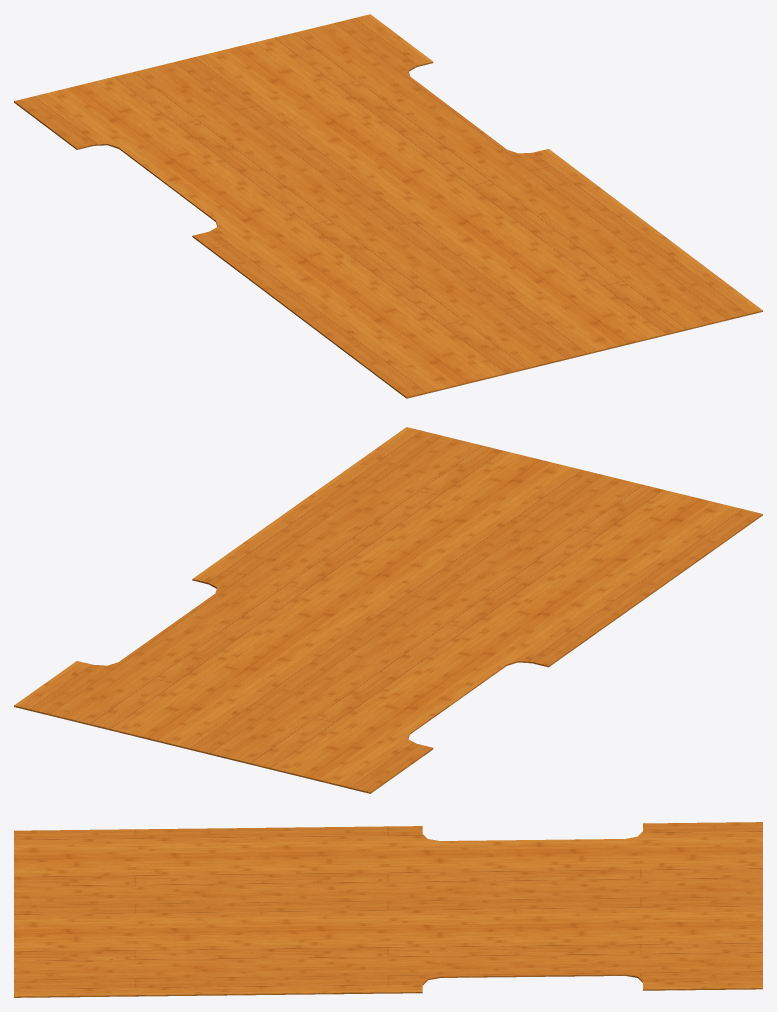
File: flooring-four.glb
3 views of the same model, one above another, from view 1: azimuth 30°, elevation 25°; view 2: azimuth 150°, elevation 25°; view 3: azimuth 270°, elevation 25° (orthographic). The views are drawn at different scales.
Parts seen in each view (by area): view 1: Van_body.002; view 2: Van_body.002; view 3: Van_body.002.
Boxes of the visible parts, x1,y1,x2,y2 form: Van_body.002: (14, 14, 762, 398); Van_body.002: (14, 427, 762, 793); Van_body.002: (14, 822, 762, 997).
Bounding box in the file's own units: 1.71 × 0.0477 × 3.27.
Materials: 1 (1 with a texture image).
